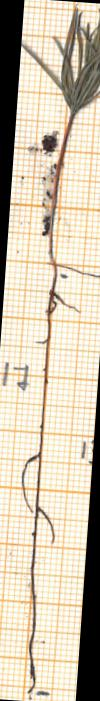flower: (21, 7, 99, 114)
root: (22, 269, 78, 694)
stem: (48, 113, 73, 270)
